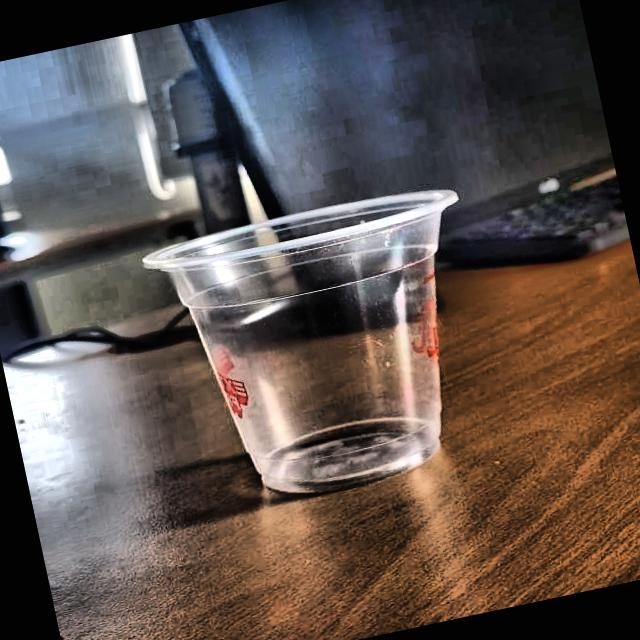plastic cup: (136, 180, 516, 524)
